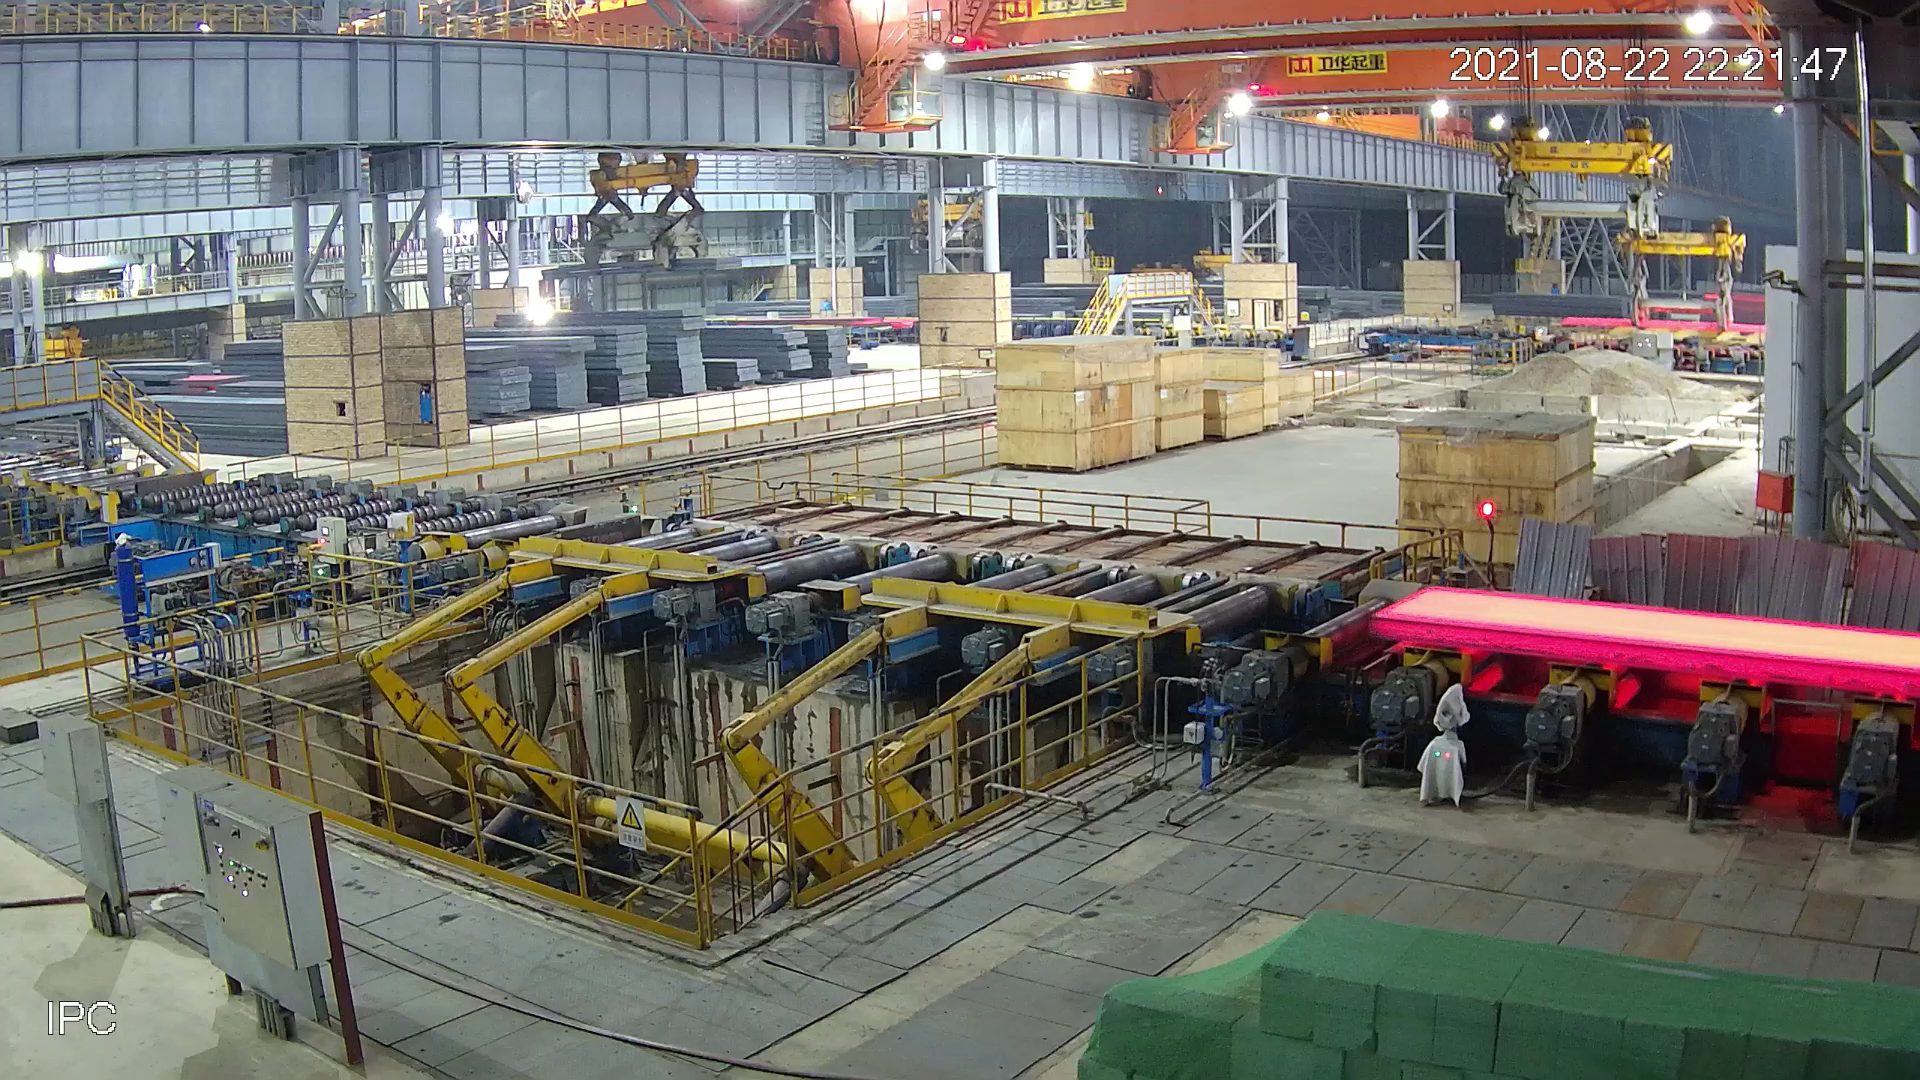slab: (1371, 584, 1920, 698)
